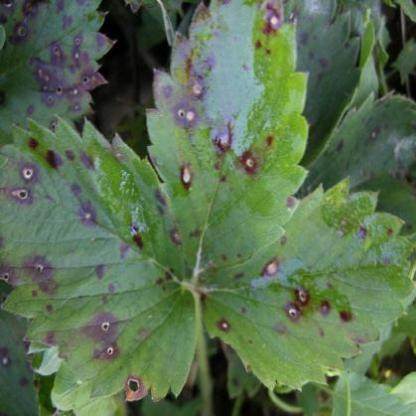Strawberry_Leaf_Spot: (0, 114, 198, 402), (143, 0, 312, 286), (196, 176, 415, 392), (289, 89, 415, 246), (0, 0, 119, 150), (282, 0, 363, 167)
